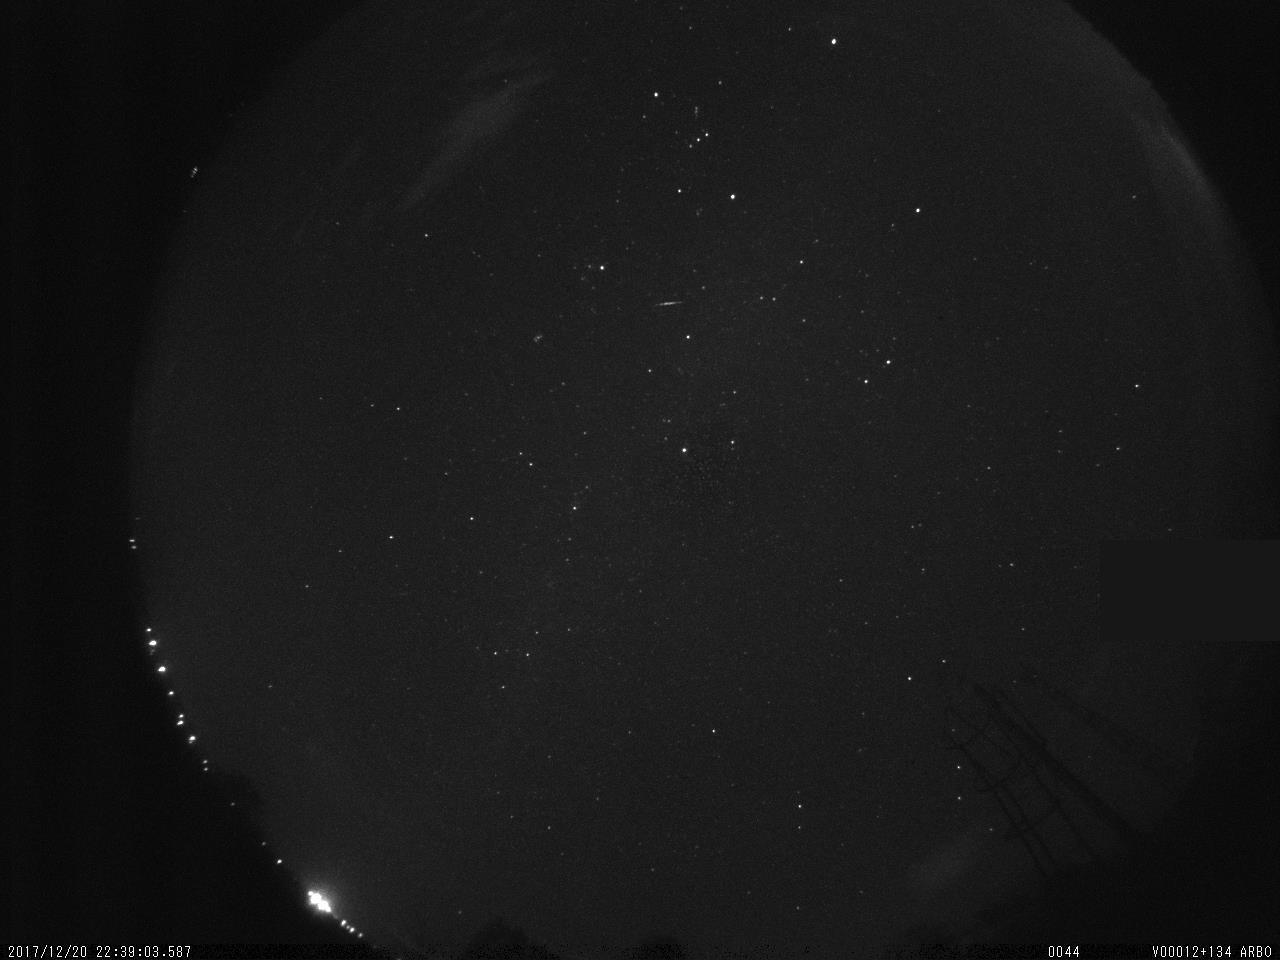meteor: (646, 294, 691, 315)
